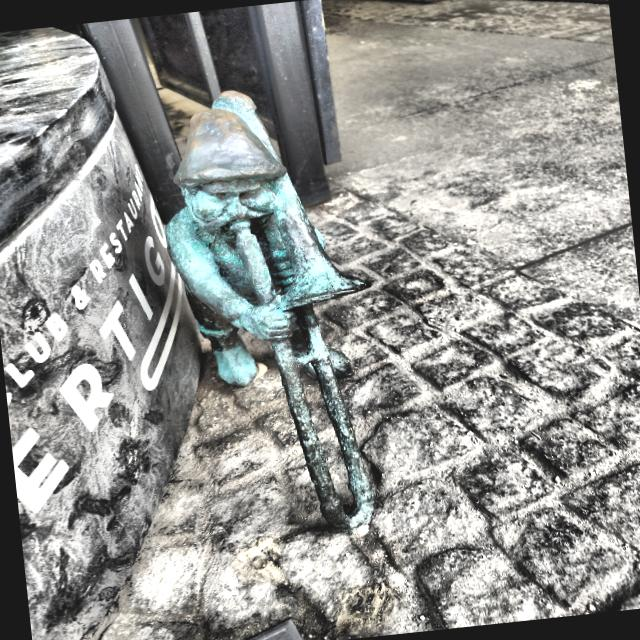Vertigus: (169, 92, 374, 532)
